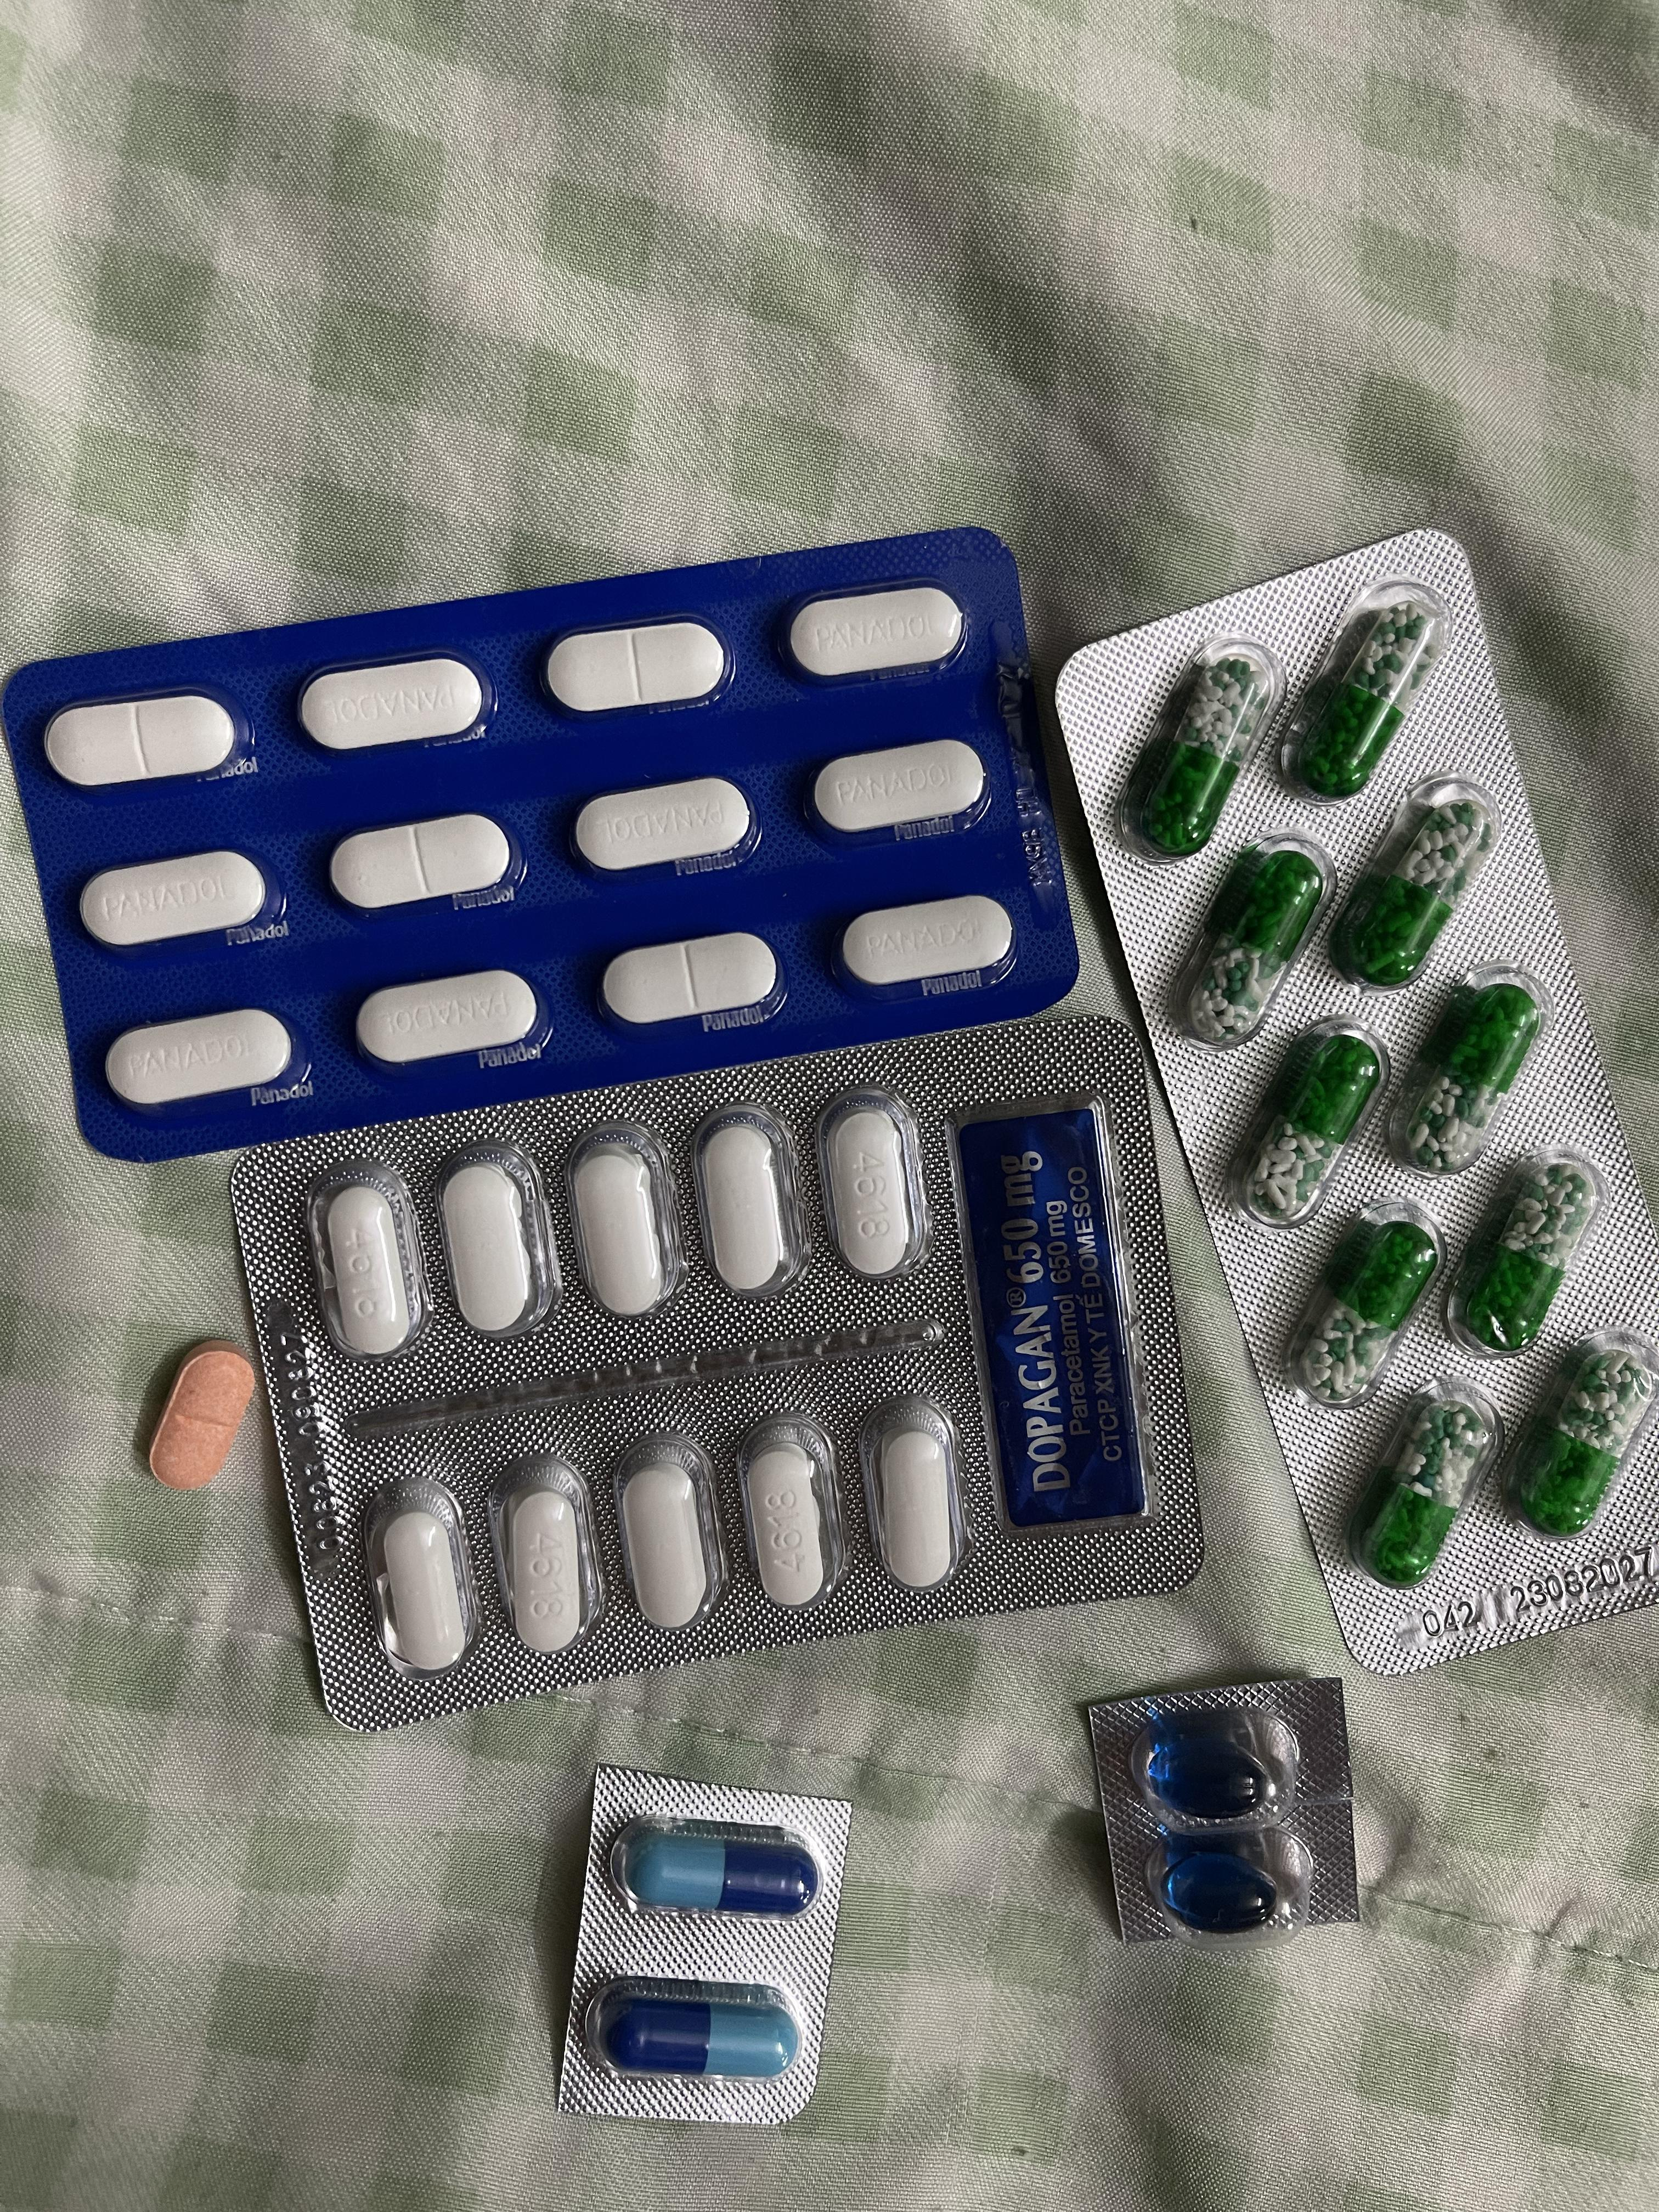Lincomyxin_500mg: (1147, 1728, 1274, 1820), (1161, 1850, 1281, 1932)
Loratadine_10mg: (148, 1339, 260, 1494)
Paracetamol_350mg: (78, 848, 282, 956), (775, 582, 978, 690), (103, 1008, 303, 1115), (805, 738, 997, 846), (44, 693, 244, 792), (836, 895, 1025, 1000), (572, 777, 762, 878), (329, 813, 516, 916), (298, 657, 490, 756), (356, 970, 544, 1069), (601, 932, 786, 1029), (544, 620, 728, 716)
Paracetamol_500mg: (434, 1141, 561, 1338), (364, 1472, 481, 1681), (486, 1454, 603, 1660), (303, 1163, 427, 1357), (568, 1122, 688, 1315), (737, 1407, 849, 1613), (816, 1092, 929, 1285), (704, 1118, 788, 1292), (624, 1460, 708, 1632), (877, 1421, 953, 1592)
Paracetamol_650mg: (1279, 577, 1455, 798), (1326, 777, 1500, 998), (1112, 637, 1279, 860), (1382, 967, 1549, 1179), (1164, 833, 1330, 1047), (1220, 1019, 1391, 1224), (1446, 1148, 1610, 1359), (1284, 1197, 1445, 1404), (1509, 1346, 1656, 1534), (1359, 1399, 1490, 1578)
pill: (587, 1980, 809, 2081), (622, 1836, 824, 1919)
